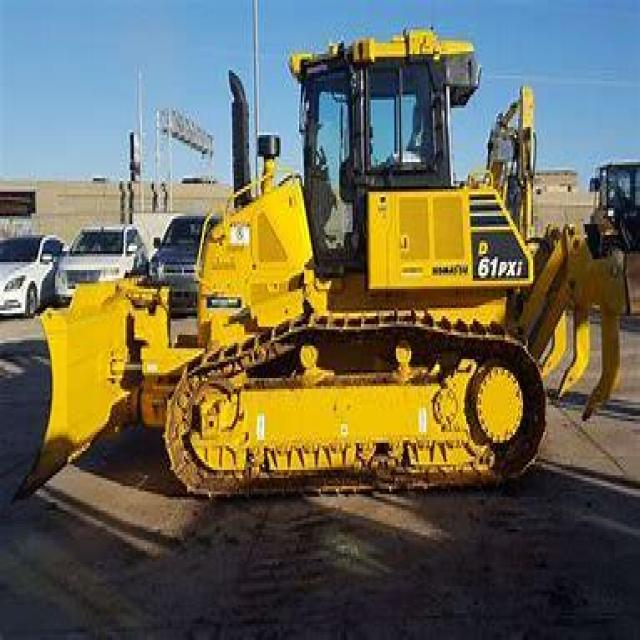Bulldozer: (25, 19, 627, 526)
